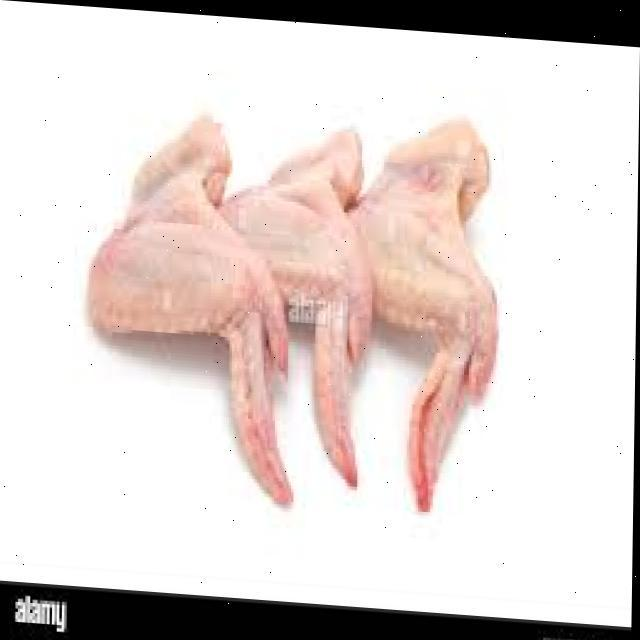wing: (88, 113, 303, 510), (348, 86, 506, 506), (242, 78, 378, 488)
